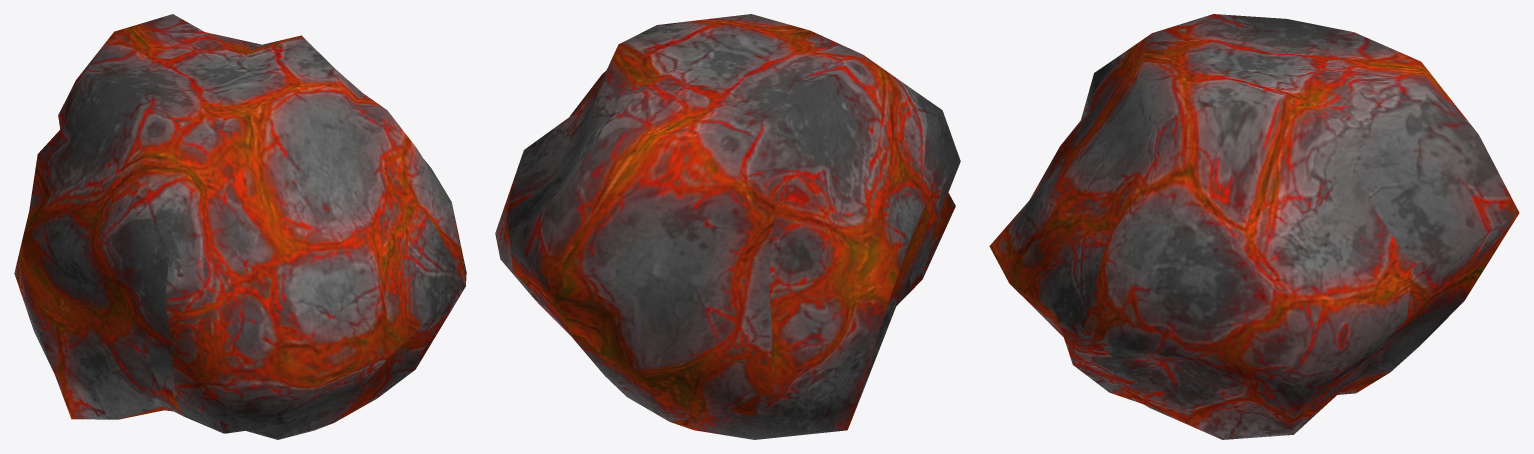
The model's file is coal.FBX.
3 views of the same model, side by side, from view 1: azimuth 30°, elevation 25°; view 2: azimuth 150°, elevation 25°; view 3: azimuth 270°, elevation 25° (orthographic).
Visible parts, largest first — view 1: rock_lava; view 2: rock_lava; view 3: rock_lava.
Part boxes in pixels (x1,y1,x2,y2): rock_lava: (14,14,466,439); rock_lava: (495,14,960,439); rock_lava: (989,14,1519,439).
Size of the model in its own units: 2.61 by 2.17 by 3.11.
